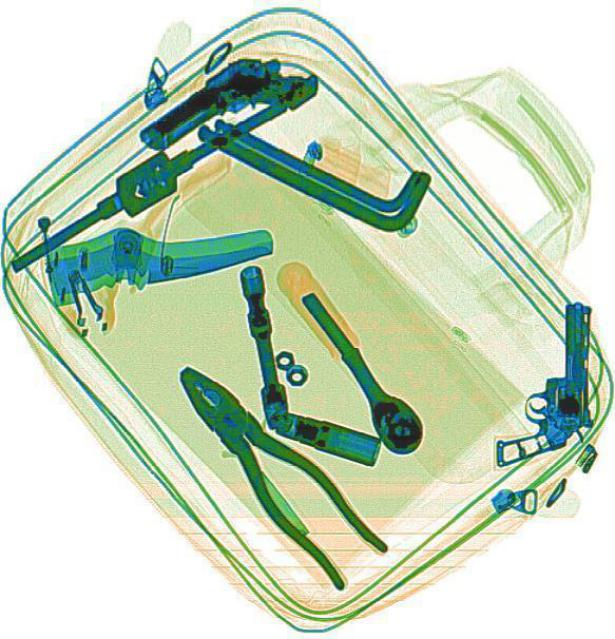Gun: (131, 27, 324, 184), (492, 301, 594, 466)
Pliers: (153, 345, 392, 592)
